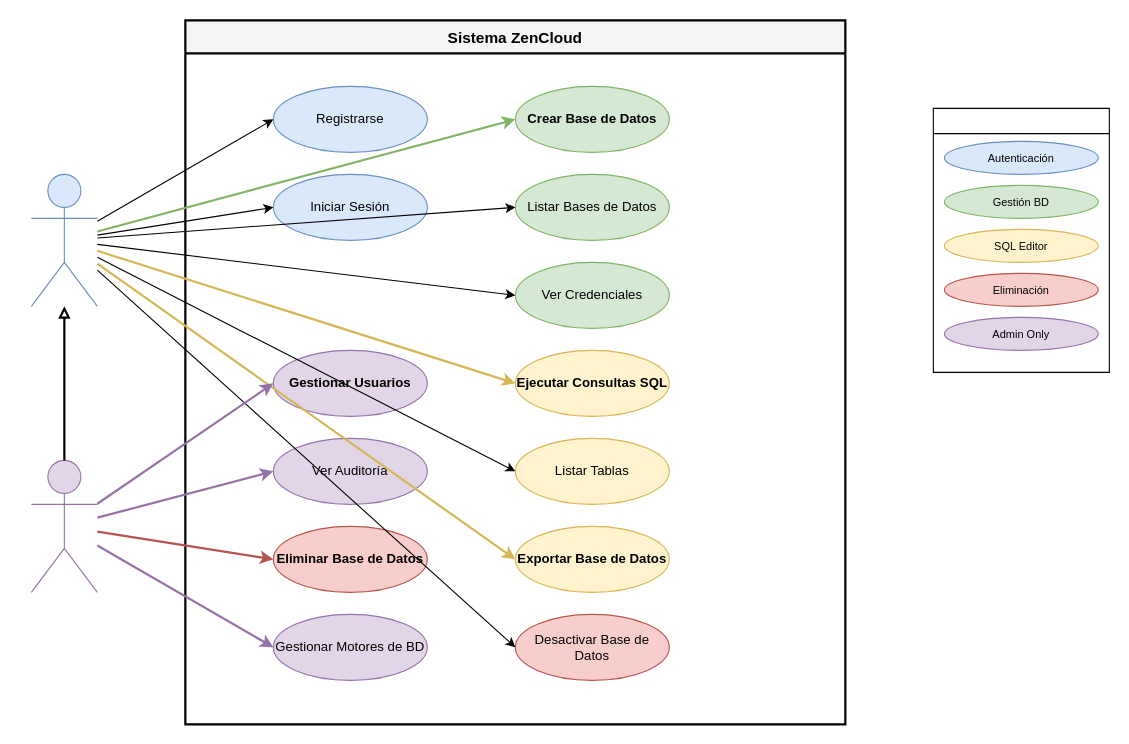
The diagram is 1129 pixels wide and 744 high, and some of its shapes have lost their labels. Here are the shapes that lost their labels. From the top down, the box of each, then its label:
(30, 173, 97, 306): Usuario
(932, 107, 1109, 372): Leyenda
(30, 459, 97, 592): Administrador
